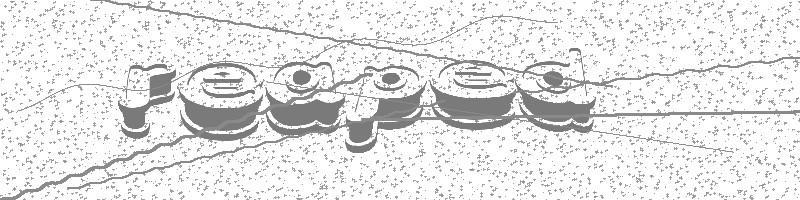a: (266, 63, 345, 135)
d: (517, 48, 597, 132)
e: (180, 62, 263, 139), (431, 60, 518, 128)
p: (347, 66, 423, 152)
r: (118, 64, 176, 138)
